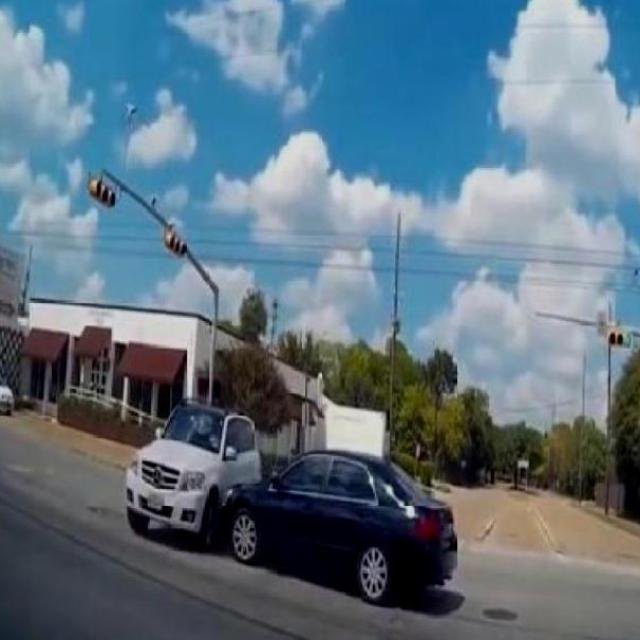accident: (116, 397, 468, 623)
